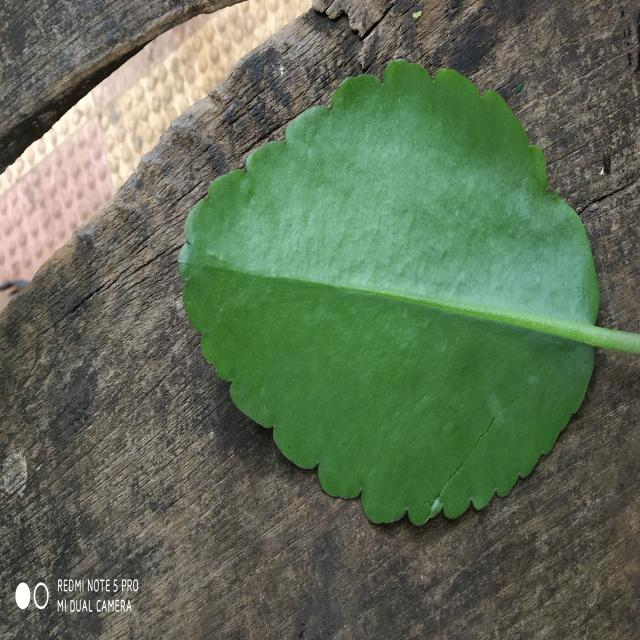spinach: (179, 71, 640, 524)
